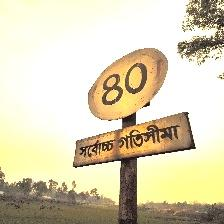Speed-limit: (75, 46, 194, 168)
